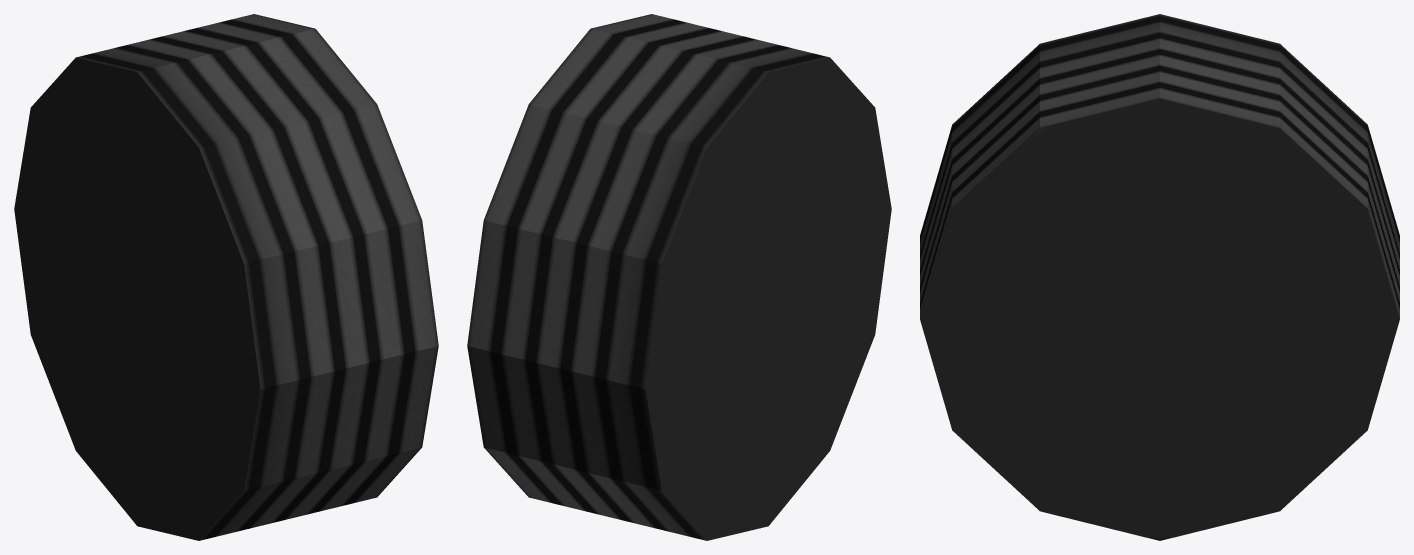
Rendered from vehicles_fhqvsvwheelonevia.fbx.
The picture shows the model from 3 angles, left to right: view 1: azimuth 30°, elevation 25°; view 2: azimuth 150°, elevation 25°; view 3: azimuth 270°, elevation 25°; orthographic projection. The views are drawn at different scales.
Parts seen in each view (by area): view 1: VSVWheel; view 2: VSVWheel; view 3: VSVWheel.
Part boxes in pixels (x1,y1,x2,y2): VSVWheel: (14, 14, 438, 540); VSVWheel: (467, 14, 891, 540); VSVWheel: (920, 14, 1399, 540).
Bounding box in the file's own units: 0.3161 × 0.7692 × 0.7562.
